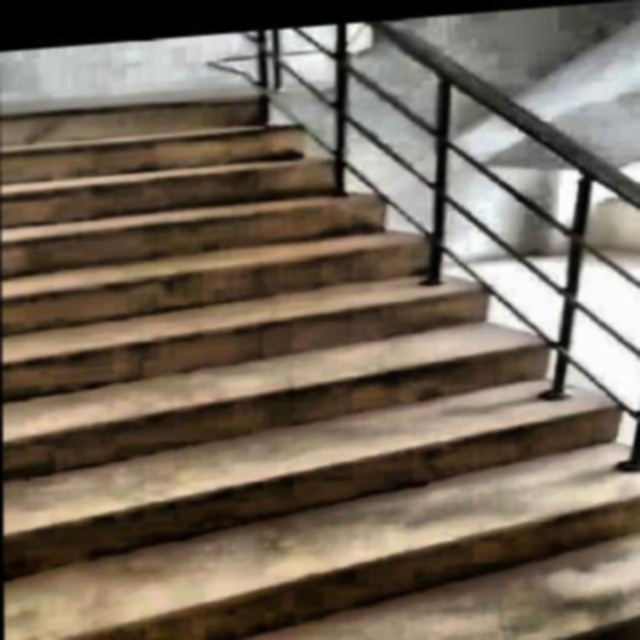stair: (2, 58, 640, 638)
